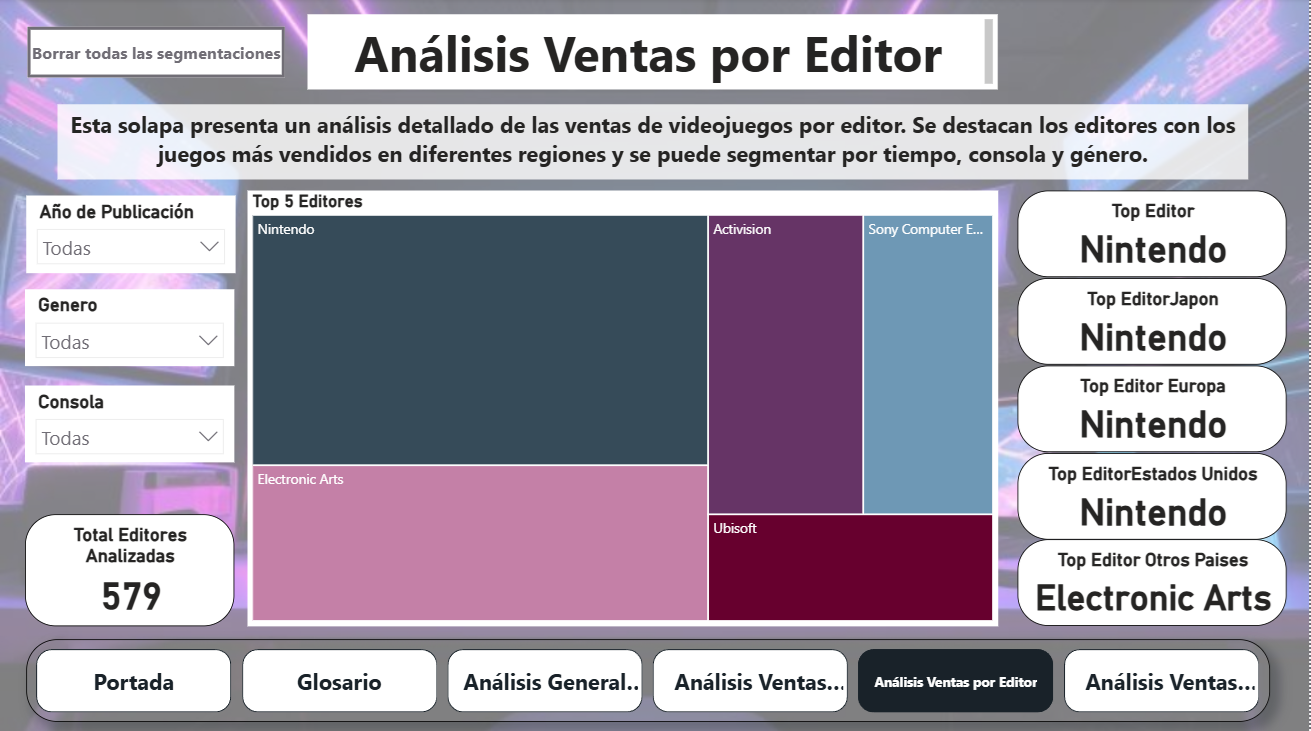

The dashboard page shown, as its layout file describes it:
{"tool":"powerbi","page":{"name":"Análisis Ventas por Editor","canvas":[1280,720],"ordinal":4},"visuals":[{"type":"textbox","box":[301,15.8,675.4,73.4],"z":0},{"type":"slicer","fields":{"Values":["TB_Videogames.Year"]},"box":[25.9,193,204.5,76.3],"z":1000},{"type":"slicer","fields":{"Values":["Dim_Platform.Platform"]},"box":[24.5,378.7,204.5,74.9],"z":2000},{"type":"slicer","fields":{"Values":["Dim_Genre.Genre"]},"box":[24.5,285.1,204.5,74.9],"z":3000},{"type":"card","title":"Top EditorJapon","fields":{"Values":["Z_Medidas.EditorConJuegosMasVendidosJP"]},"box":[995,273.6,263.5,85],"z":4000},{"type":"card","title":"Total Editores Analizadas","fields":{"Values":["Z_Medidas.Editores_Diferentes"]},"box":[24.5,505.4,204.5,109.4],"z":5000},{"type":"actionButton","box":[26.3,27.8,251.7,49.8],"z":6000},{"type":"treemap","title":"Top 5 Editores","fields":{"Group":["Dim_Publisher.Publisher"],"Values":["Z_Medidas.TotalVentasGlobales"]},"box":[241.9,188.6,734.4,426.2],"z":7000},{"type":"card","title":"Top Editor Europa","fields":{"Values":["Z_Medidas.EditorConJuegosMasVendidosEU"]},"box":[995,360,263.5,85],"z":8000},{"type":"card","title":"Top EditorEstados Unidos","fields":{"Values":["Z_Medidas.EditorConJuegosMasVendidosNA"]},"box":[995,445,263.5,85],"z":9000},{"type":"card","title":"Top Editor Otros Paises","fields":{"Values":["Z_Medidas.EditorConJuegosMasVendidosOtros"]},"box":[995,529.9,263.5,85],"z":10000},{"type":"card","title":"Top Editor","fields":{"Values":["Z_Medidas.EditorConJuegosMasVendidos"]},"box":[995,188.6,263.5,85],"z":11000},{"type":"textbox","box":[56.2,103.7,1165,73.4],"z":12000},{"type":"pageNavigator","box":[25.9,627.8,1216.8,80.6],"z":13000}]}

Visuals, with their boxes in screenshot pixels (x1, y1, x2, y2), scaled from the page's 1280x720 canvas onto the 1311x731 screenshot:
textbox: locate(308, 16, 1000, 91)
slicer - TB_Videogames.Year: locate(27, 196, 236, 273)
slicer - Dim_Platform.Platform: locate(25, 384, 235, 461)
slicer - Dim_Genre.Genre: locate(25, 289, 235, 366)
"Top EditorJapon" card: locate(1019, 278, 1289, 364)
"Total Editores Analizadas" card: locate(25, 513, 235, 624)
actionButton: locate(27, 28, 285, 79)
"Top 5 Editores" treemap: locate(248, 191, 1000, 624)
"Top Editor Europa" card: locate(1019, 366, 1289, 452)
"Top EditorEstados Unidos" card: locate(1019, 452, 1289, 538)
"Top Editor Otros Paises" card: locate(1019, 538, 1289, 624)
"Top Editor" card: locate(1019, 191, 1289, 278)
textbox: locate(58, 105, 1251, 180)
pageNavigator: locate(27, 637, 1273, 719)
